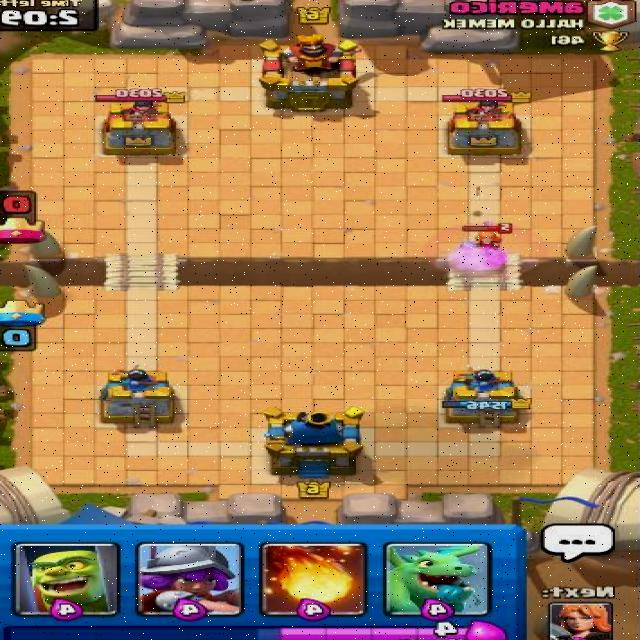Enemy-Valkyrie: (457, 221, 514, 262)
